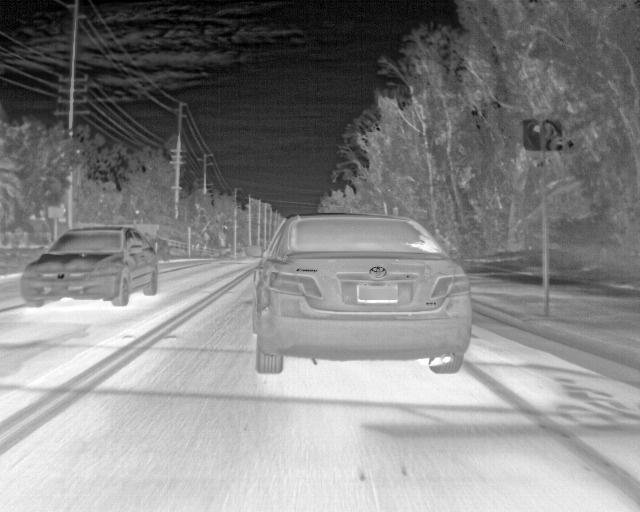car: (252, 211, 473, 375), (20, 223, 159, 308)
